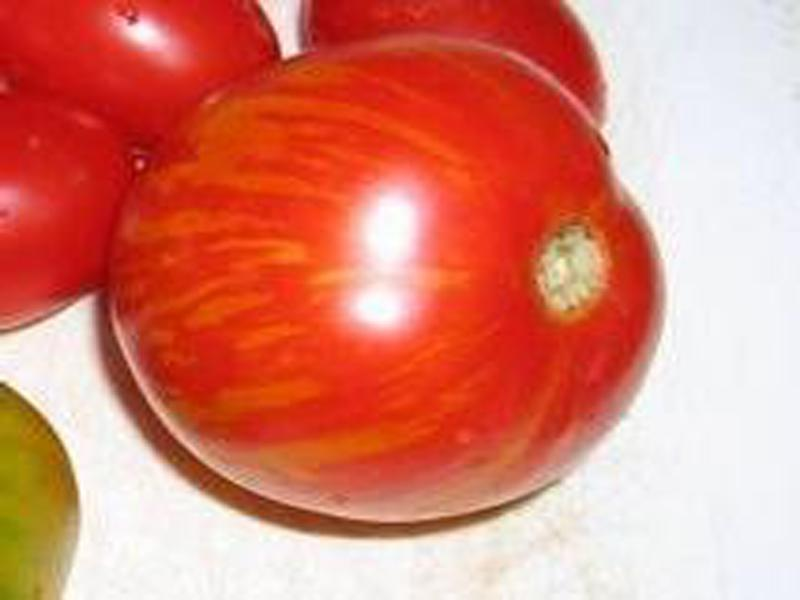Tomato: (104, 32, 671, 523)
